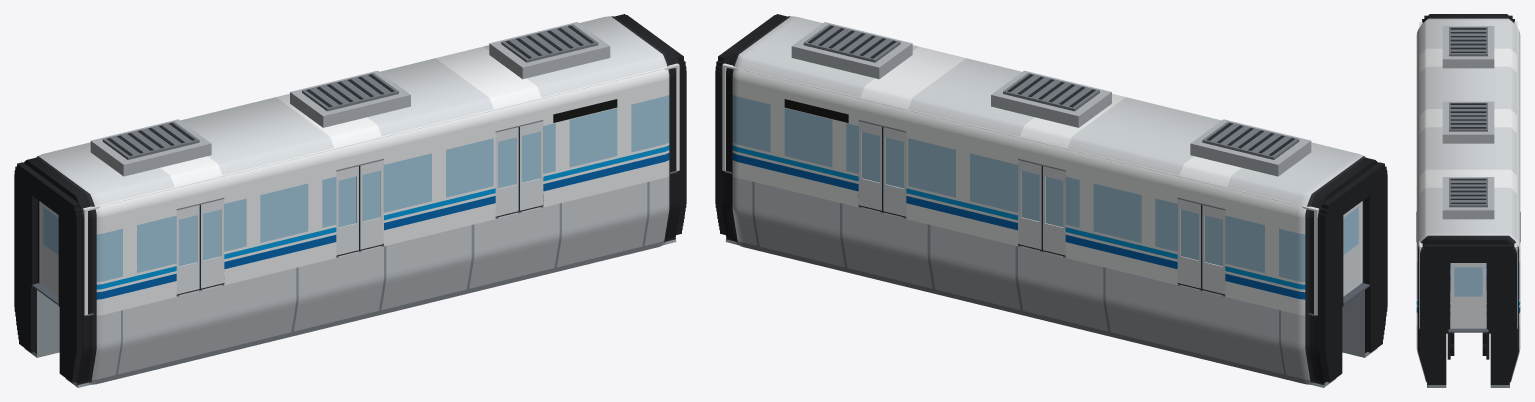
The model's file is tokyo_car.obj.
The picture shows the model from 3 angles, left to right: view 1: azimuth 30°, elevation 25°; view 2: azimuth 150°, elevation 25°; view 3: azimuth 270°, elevation 25°; orthographic projection. The views are drawn at different scales.
Visible parts, largest first — view 1: SHELL, SHELL_roof, SHELL_diaphragm, EXTERNAL_DOOR_4_CG_DR1_TOGGLE_TL_-0.54_X, EXTERNAL_DOOR_10_CG_DR2_TOGGLE_TL_-0.54_X, EXTERNAL_DOOR_16_CG_DR3_TOGGLE_TL_-0.54_X, EXTERNAL_DOOR_11_CG_DR2_TOGGLE_TL_0.54_X, EXTERNAL_DOOR_17_CG_DR3_TOGGLE_TL_0.54_X, EXTERNAL_DOOR_5_CG_DR1_TOGGLE_TL_0.54_X, CONNECTING_DOOR_1_CG_CR_TOGGLE_TL_0.98_Z, SHELL_end, SHELL_ceiling (+1 smaller); view 2: SHELL, SHELL_roof, SHELL_diaphragm, EXTERNAL_DOOR_7_CG_DL1_TOGGLE_TL_-0.54_X, EXTERNAL_DOOR_13_CG_DL2_TOGGLE_TL_-0.54_X, EXTERNAL_DOOR_19_CG_DL3_TOGGLE_TL_-0.54_X, EXTERNAL_DOOR_14_CG_DL2_TOGGLE_TL_0.54_X, EXTERNAL_DOOR_20_CG_DL3_TOGGLE_TL_0.54_X, EXTERNAL_DOOR_8_CG_DL1_TOGGLE_TL_0.54_X, CONNECTING_DOOR_1_CG_CR_TOGGLE_TL_0.98_Z, SHELL_end, SHELL_ceiling (+1 smaller); view 3: SHELL, SHELL_diaphragm, SHELL_roof, CONNECTING_DOOR_2_CG_CF_TOGGLE_TL_0.98_Z, BOGEY_FRONT, SHELL_end, SHELL_gangway, FLOOR.
Part boxes in pixels (x1,y1,x2,y2): SHELL: (24,14,680,387); SHELL_roof: (90,22,610,176); SHELL_diaphragm: (14,15,686,382); EXTERNAL_DOOR_4_CG_DR1_TOGGLE_TL_-0.54_X: (176,204,200,294); EXTERNAL_DOOR_10_CG_DR2_TOGGLE_TL_-0.54_X: (336,166,360,255); EXTERNAL_DOOR_16_CG_DR3_TOGGLE_TL_-0.54_X: (495,127,519,216); EXTERNAL_DOOR_11_CG_DR2_TOGGLE_TL_0.54_X: (360,160,383,249); EXTERNAL_DOOR_17_CG_DR3_TOGGLE_TL_0.54_X: (520,121,542,210); EXTERNAL_DOOR_5_CG_DR1_TOGGLE_TL_0.54_X: (201,199,223,288); CONNECTING_DOOR_1_CG_CR_TOGGLE_TL_0.98_Z: (41,202,58,296); SHELL_end: (39,63,679,315); SHELL_ceiling: (85,64,677,210); SHELL: (721,14,1377,387); SHELL_roof: (791,22,1311,176); SHELL_diaphragm: (715,15,1387,382); EXTERNAL_DOOR_7_CG_DL1_TOGGLE_TL_-0.54_X: (1201,204,1225,294); EXTERNAL_DOOR_13_CG_DL2_TOGGLE_TL_-0.54_X: (1041,166,1065,255); EXTERNAL_DOOR_19_CG_DL3_TOGGLE_TL_-0.54_X: (882,127,906,216); EXTERNAL_DOOR_14_CG_DL2_TOGGLE_TL_0.54_X: (1018,160,1041,249); EXTERNAL_DOOR_20_CG_DL3_TOGGLE_TL_0.54_X: (859,121,881,210); EXTERNAL_DOOR_8_CG_DL1_TOGGLE_TL_0.54_X: (1178,199,1200,288); CONNECTING_DOOR_1_CG_CR_TOGGLE_TL_0.98_Z: (1343,202,1360,296); SHELL_end: (722,63,1362,315); SHELL_ceiling: (724,64,1316,210); SHELL: (1416,14,1520,387); SHELL_diaphragm: (1420,15,1516,384); SHELL_roof: (1442,26,1494,219); CONNECTING_DOOR_2_CG_CF_TOGGLE_TL_0.98_Z: (1450,263,1486,328); BOGEY_FRONT: (1447,331,1489,359); SHELL_end: (1419,21,1517,328); SHELL_gangway: (1448,327,1488,332); FLOOR: (1419,290,1517,332).
Bounding box in the file's own units: 15.32 × 4.91 × 2.92.
1 material, 1 textured.
